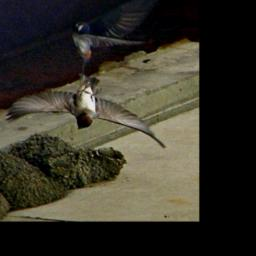Swallow: (2, 70, 169, 150)
